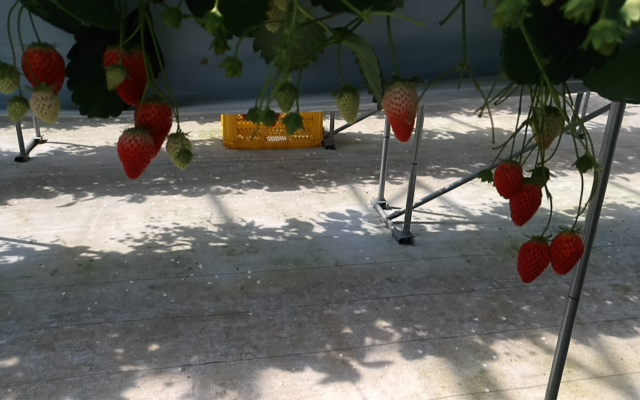GreenStrawberry: (529, 104, 563, 153), (27, 88, 62, 125), (333, 84, 361, 126), (165, 133, 193, 172), (274, 80, 296, 113), (1, 63, 20, 97), (103, 64, 126, 92), (6, 98, 27, 122)
MatureStrawberry: (105, 42, 149, 108), (19, 41, 67, 97), (380, 78, 420, 144), (132, 96, 173, 157), (116, 127, 155, 182), (549, 225, 585, 278), (508, 176, 544, 228), (516, 235, 552, 285), (492, 159, 525, 201)
